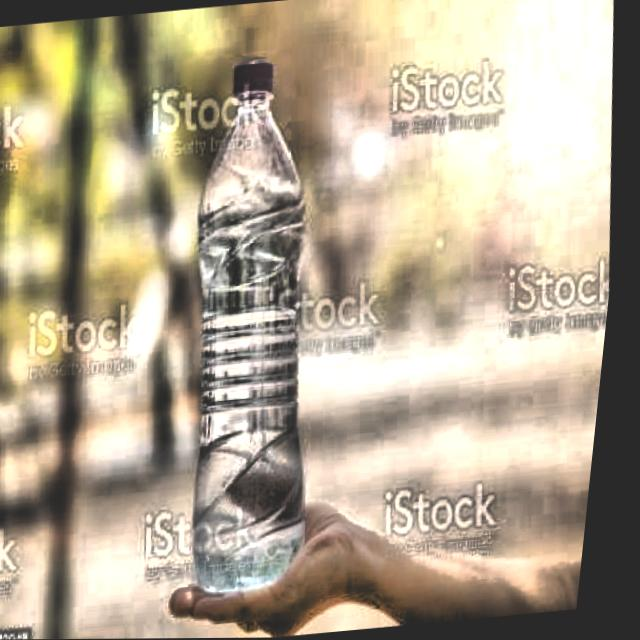Bottles: (101, 21, 413, 634)
